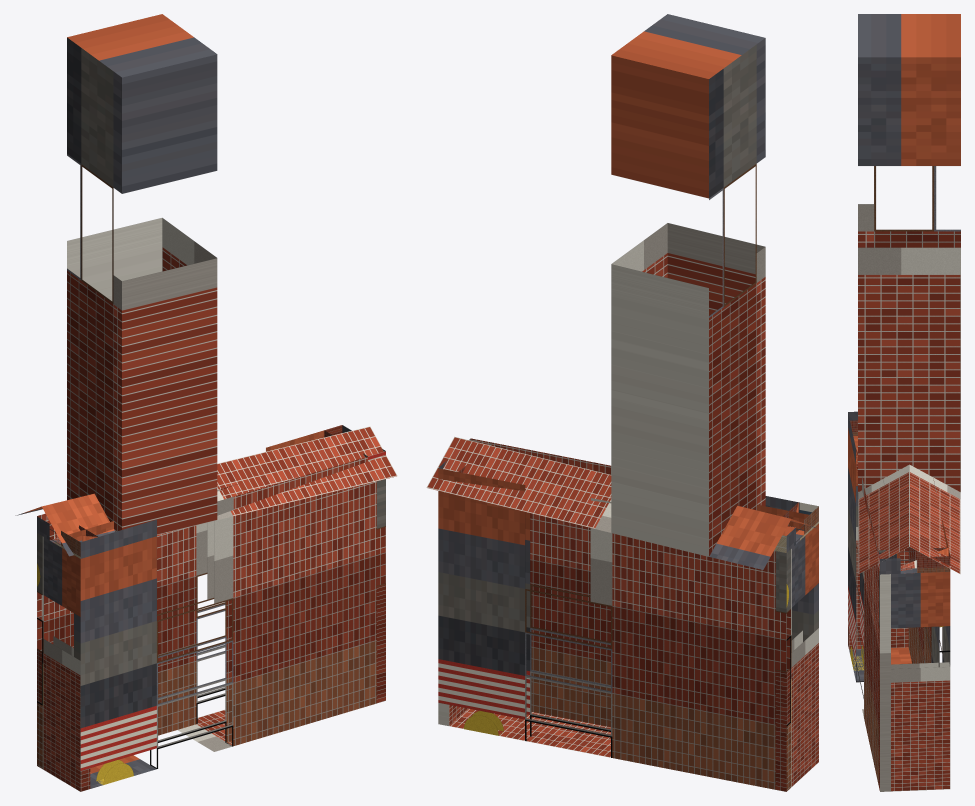
The picture shows the model from 3 angles, left to right: view 1: azimuth 30°, elevation 25°; view 2: azimuth 150°, elevation 25°; view 3: azimuth 270°, elevation 25°; orthographic projection. The views are drawn at different scales.
Visible parts, largest first — view 1: 238575819__chimney_0_xb, 238575819__wall_2_xb, 238575819__wall_0_xb, 238575819_roof_-1_xb, 238575819__wall_1_xb, 238575819__cornice_2, 238575819__base, 238575819__wall_3_xb, 238575819__cornice_0; view 2: 238575819__chimney_0_xb, 238575819__wall_0_xb, 238575819__wall_2_xb, 238575819_roof_1_xb, 238575819__wall_1_xb, 238575819__base, 238575819__cornice_2, 238575819__cornice_0, 238575819__cornice_1; view 3: 238575819__chimney_0_xb, 238575819__wall_3_xb, 238575819__wall_2_xb, 238575819_roof_-1_xb, 238575819_roof_1_xb, 238575819__wall_0_xb, 238575819__wall_1_xb, 238575819__cornice_3, 238575819__cornice_2, 238575819__base.
Boxes of the visible parts, x1,y1,x2,y2 form: 238575819__chimney_0_xb: [67, 14, 217, 534]; 238575819__wall_2_xb: [74, 481, 385, 785]; 238575819__wall_0_xb: [37, 523, 225, 769]; 238575819_roof_-1_xb: [42, 426, 397, 556]; 238575819__wall_1_xb: [37, 533, 90, 791]; 238575819__cornice_2: [68, 456, 367, 558]; 238575819__base: [90, 709, 231, 788]; 238575819__wall_3_xb: [376, 479, 385, 703]; 238575819__cornice_0: [37, 425, 351, 540]; 238575819__chimney_0_xb: [611, 14, 765, 556]; 238575819__wall_0_xb: [438, 491, 791, 791]; 238575819__wall_2_xb: [530, 513, 818, 726]; 238575819_roof_1_xb: [426, 436, 790, 569]; 238575819__wall_1_xb: [775, 523, 818, 791]; 238575819__base: [449, 708, 610, 757]; 238575819__cornice_2: [470, 438, 811, 530]; 238575819__cornice_0: [438, 461, 795, 552]; 238575819__cornice_1: [774, 502, 818, 552]; 238575819__chimney_0_xb: [858, 14, 960, 492]; 238575819__wall_3_xb: [879, 568, 950, 791]; 238575819__wall_2_xb: [848, 428, 890, 791]; 238575819_roof_-1_xb: [858, 464, 909, 574]; 238575819_roof_1_xb: [909, 465, 960, 574]; 238575819__wall_0_xb: [908, 547, 950, 667]; 238575819__wall_1_xb: [848, 465, 908, 649]; 238575819__cornice_3: [878, 547, 950, 573]; 238575819__cornice_2: [848, 411, 900, 574]; 238575819__base: [849, 647, 911, 717].
Bounding box in the file's own units: 0.5167 × 1.05 × 0.1646.
1 material, 1 textured.
